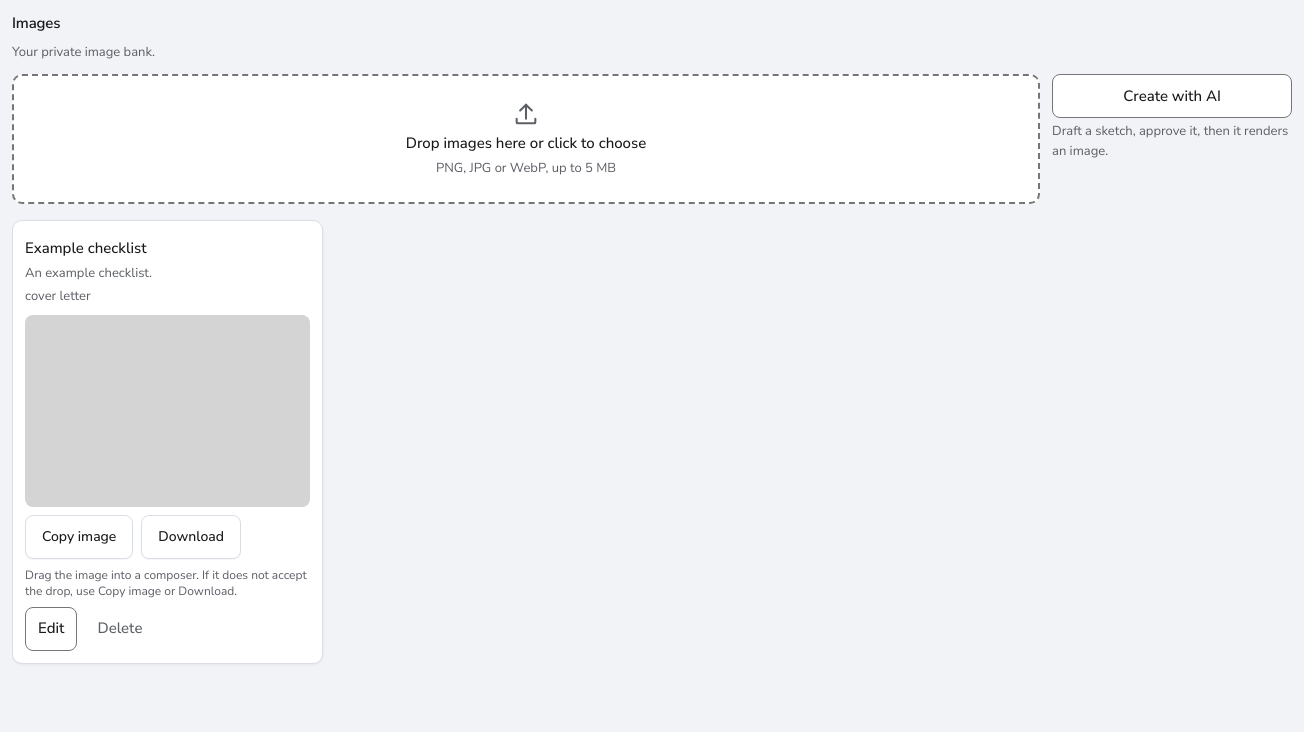
Test: editing and deleting › asks before deleting, and deletes with the version
The image size is (1304, 732).
Click the button "Delete".
click(120, 628)  # box [86,606,154,650]
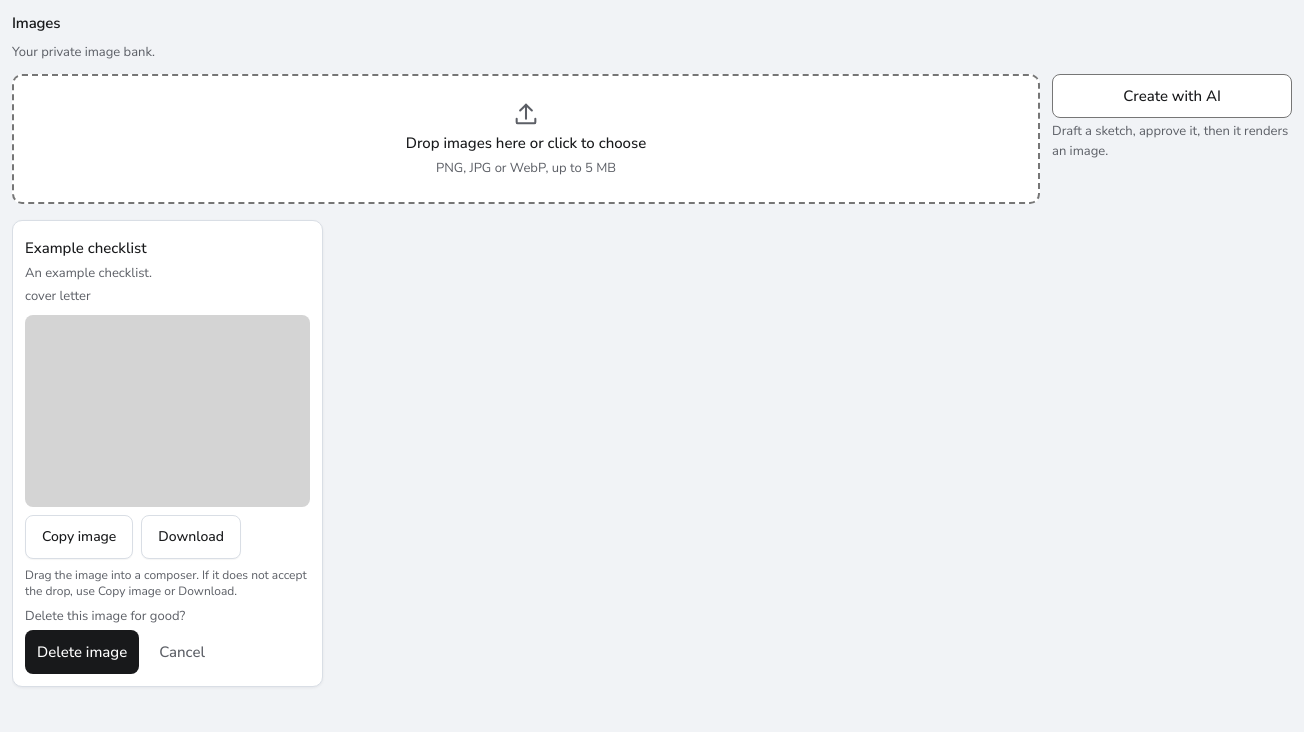
Now the text "Delete this image for good?" is shown, box [25,606,185,624]
Click the button "Delete image".
click(82, 652)  # box [25,630,139,674]
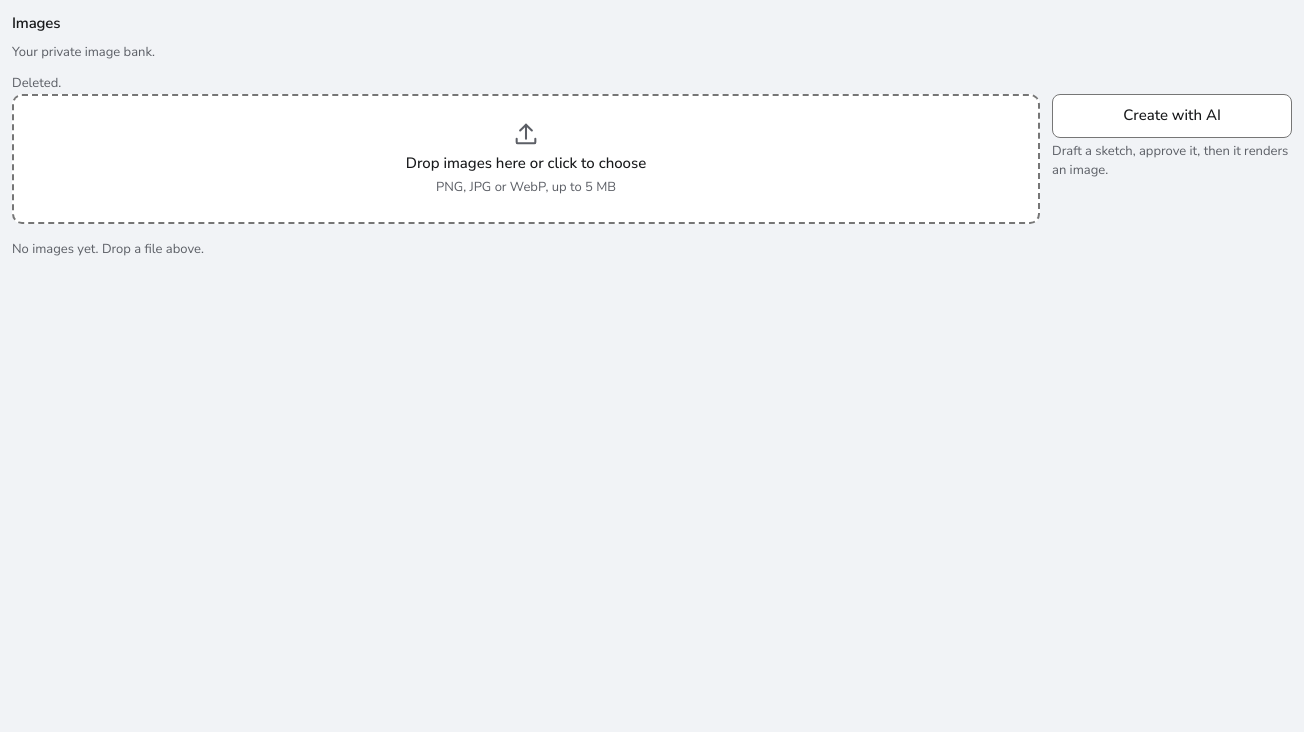
Now the text "Deleted." is shown, box [12,74,61,92]
Now the text "No images yet. Drop a file above." is shown, box [12,240,204,258]
